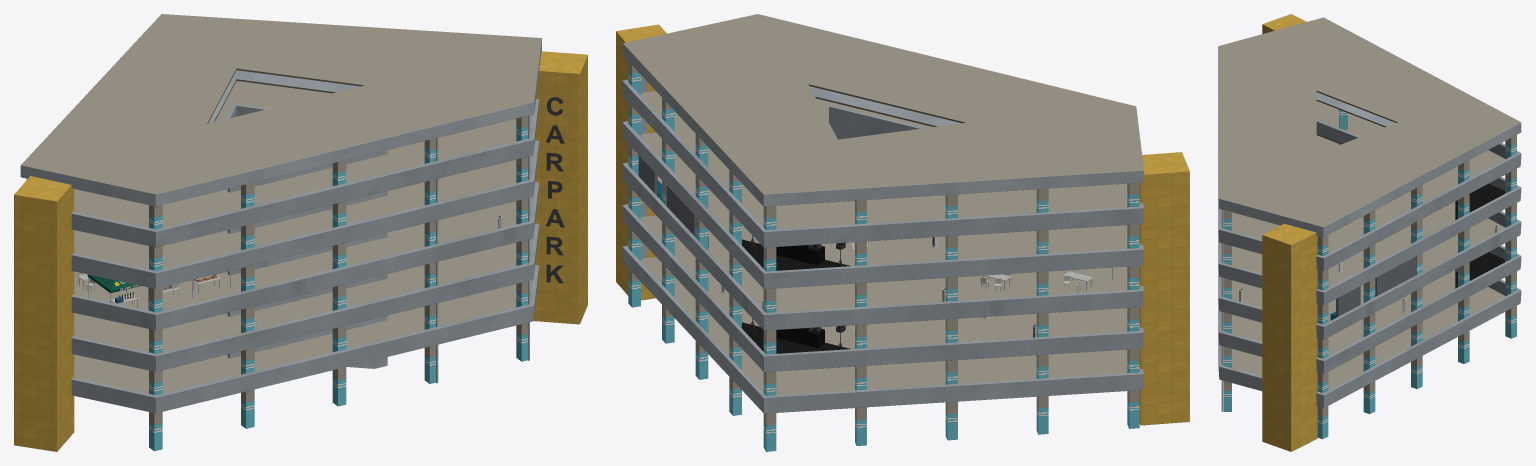
File: building.glb
The picture shows the model from 3 angles, left to right: view 1: azimuth 30°, elevation 25°; view 2: azimuth 150°, elevation 25°; view 3: azimuth 270°, elevation 25°; orthographic projection. The views are drawn at different scales.
Parts seen in each view (by area): view 1: slab_roof, tower, slab_5, slab_1, slab_2, slab_4, slab_3, column_1, CARPARK_letters, ramp_walls_L1, ramp_walls_L2, ramp_walls_L4 (+2 smaller); view 2: slab_roof, slab_5, slab_1, slab_3, slab_4, slab_2, tower, column_3, column_2, ramp_walls_L5, dj_platform_L2, dj_platform_L4 (+3 smaller); view 3: slab_roof, tower, slab_5, slab_1, slab_4, slab_2, slab_3, column_3, column_2, column_1, wall_banner_wide, dj_platform_L2 (+3 smaller).
Part boxes in pixels (x1,y1,x2,y2): slab_roof: (20,14,541,206); tower: (14,51,587,451); slab_5: (71,81,538,247); slab_1: (71,265,538,413); slab_2: (71,223,538,371); slab_4: (71,140,538,288); slab_3: (71,182,538,330); column_1: (149,115,529,451); CARPARK_letters: (546,97,564,283); ramp_walls_L1: (227,315,387,368); ramp_walls_L2: (227,274,387,316); ramp_walls_L4: (227,191,387,233); slab_roof: (622,14,1143,206); slab_5: (622,78,1143,247); slab_1: (622,244,1143,413); slab_3: (622,162,1143,330); slab_4: (622,119,1143,289); slab_2: (622,202,1143,372); tower: (616,24,1189,425); column_3: (628,62,1139,445); column_2: (763,206,776,451); ramp_walls_L5: (829,105,924,139); dj_platform_L2: (741,322,850,353); dj_platform_L4: (741,239,850,270); slab_roof: (1218,17,1521,237); tower: (1262,14,1317,451); slab_5: (1218,101,1521,270); slab_1: (1218,279,1521,407); slab_4: (1218,135,1521,305); slab_2: (1218,245,1521,373); slab_3: (1218,211,1521,339); column_3: (1317,160,1469,439); column_2: (1505,135,1516,338); column_1: (1223,210,1231,411); wall_banner_wide: (1375,256,1415,296); dj_platform_L2: (1455,252,1504,288).
Size of the model in its own units: 43.6 by 19.15 by 24.16.
Materials: 44 (14 with a texture image).
